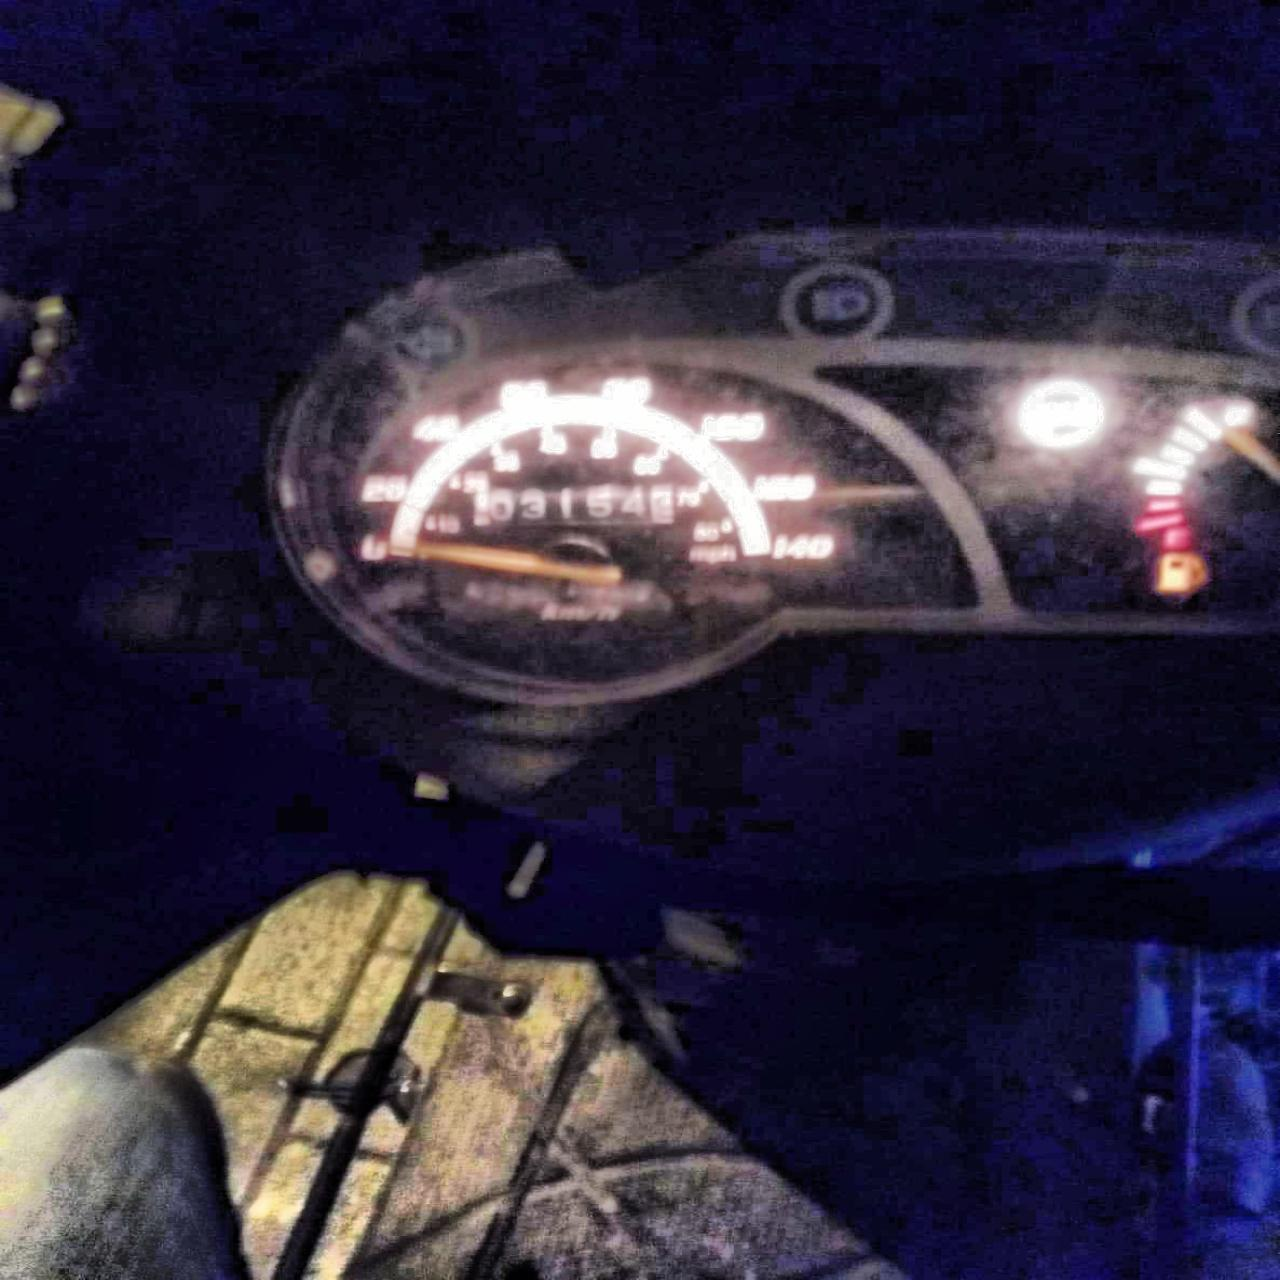0: (488, 490, 511, 522)
1: (554, 486, 574, 523)
3: (518, 490, 546, 519)
4: (619, 484, 646, 517)
5: (585, 489, 613, 519)
9: (655, 492, 675, 523)
odometer: (472, 482, 674, 527)
